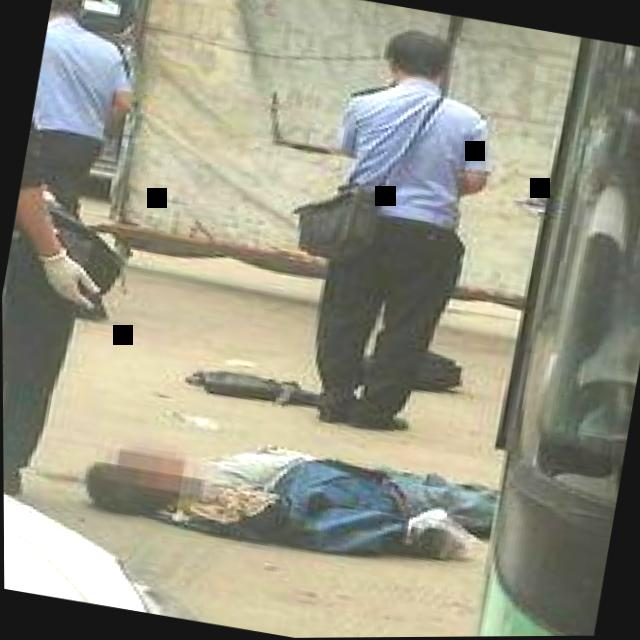Fall-Detected: (73, 391, 538, 596)
